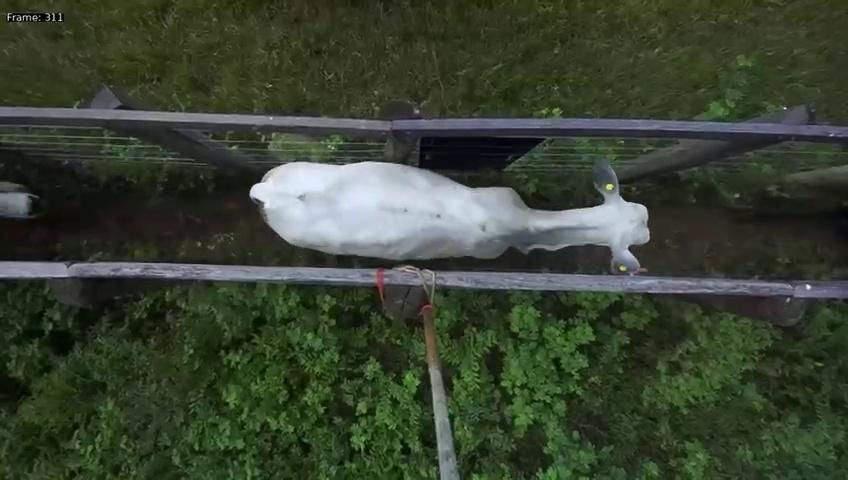cattle: (246, 156, 652, 275)
